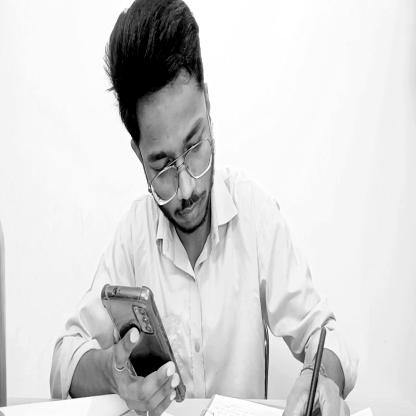Distracted: (107, 0, 217, 238)
